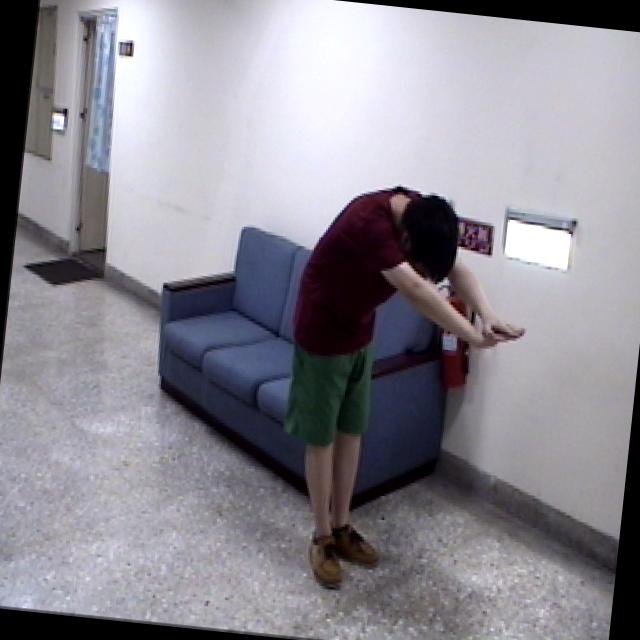bend: (258, 162, 546, 608)
